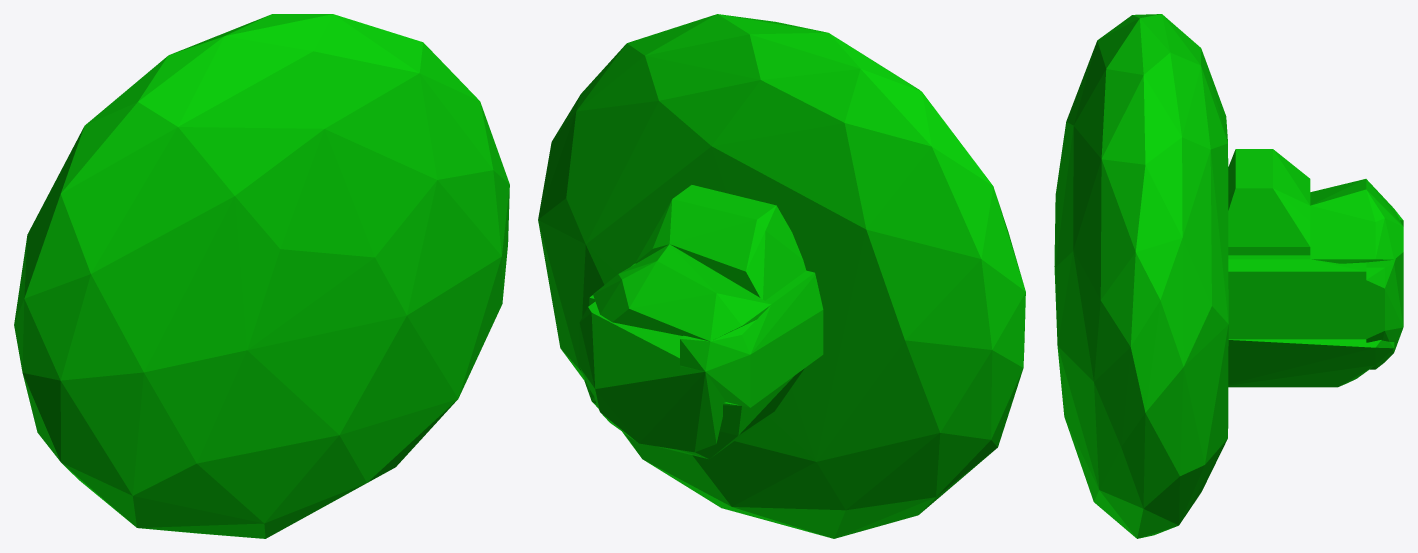
Rendered from UCX_Fan2.fbx.
3 views of the same model, side by side, from view 1: azimuth 30°, elevation 25°; view 2: azimuth 150°, elevation 25°; view 3: azimuth 270°, elevation 25° (orthographic). The views are drawn at different scales.
Visible parts, largest first — view 1: UCX_Fan2; view 2: UCX_Fan2; view 3: UCX_Fan2.
Boxes of the visible parts, left/top/right/bottom form: UCX_Fan2: left=14, top=14, right=509, bottom=538; UCX_Fan2: left=538, top=14, right=1025, bottom=538; UCX_Fan2: left=1054, top=14, right=1403, bottom=538.
Size of the model in its own units: 0.2914 by 0.2907 by 0.1927.
